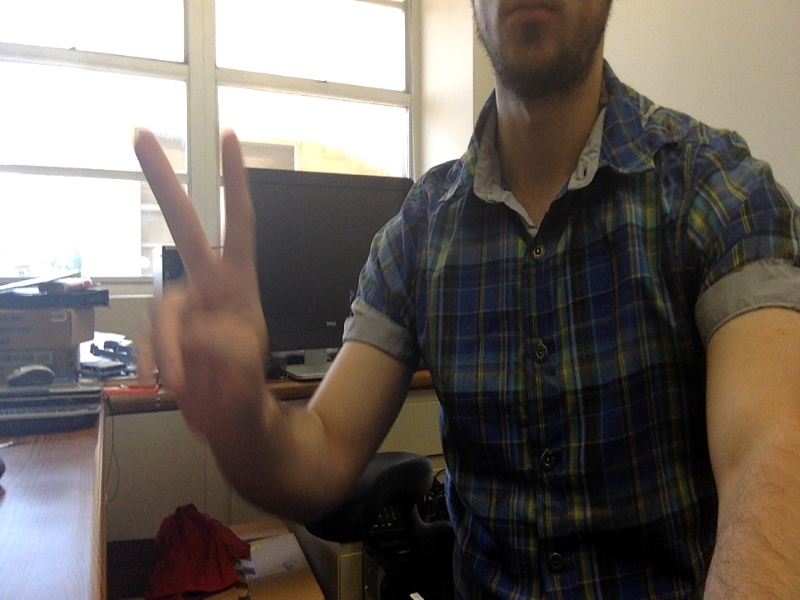2-hand: (131, 126, 278, 438)
